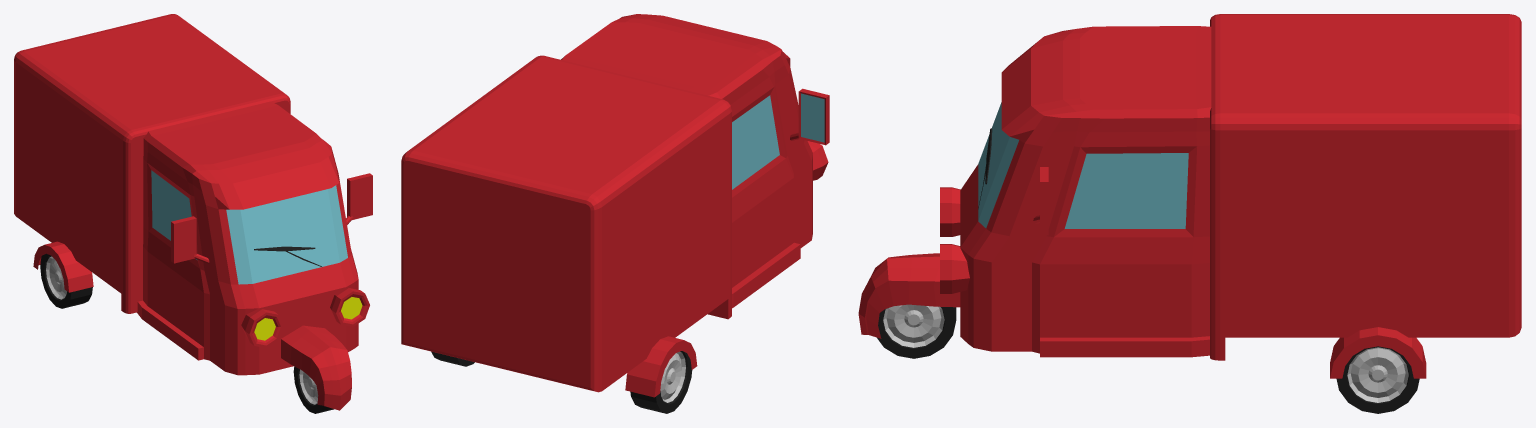
The model's file is tuktuk.fbx.
3 renders of one model, left to right at view 1: azimuth 30°, elevation 25°; view 2: azimuth 150°, elevation 25°; view 3: azimuth 270°, elevation 25°, orthographic. The views are drawn at different scales.
Parts seen in each view (by area): view 1: Cube.015; view 2: Cube.015; view 3: Cube.015.
Part boxes in pixels (x1=…): Cube.015: x1=14, y1=14, x2=372, y2=413; Cube.015: x1=401, y1=14, x2=829, y2=413; Cube.015: x1=858, y1=14, x2=1521, y2=413.
Bounding box in the file's own units: 1.67 × 3.6 × 1.72.
